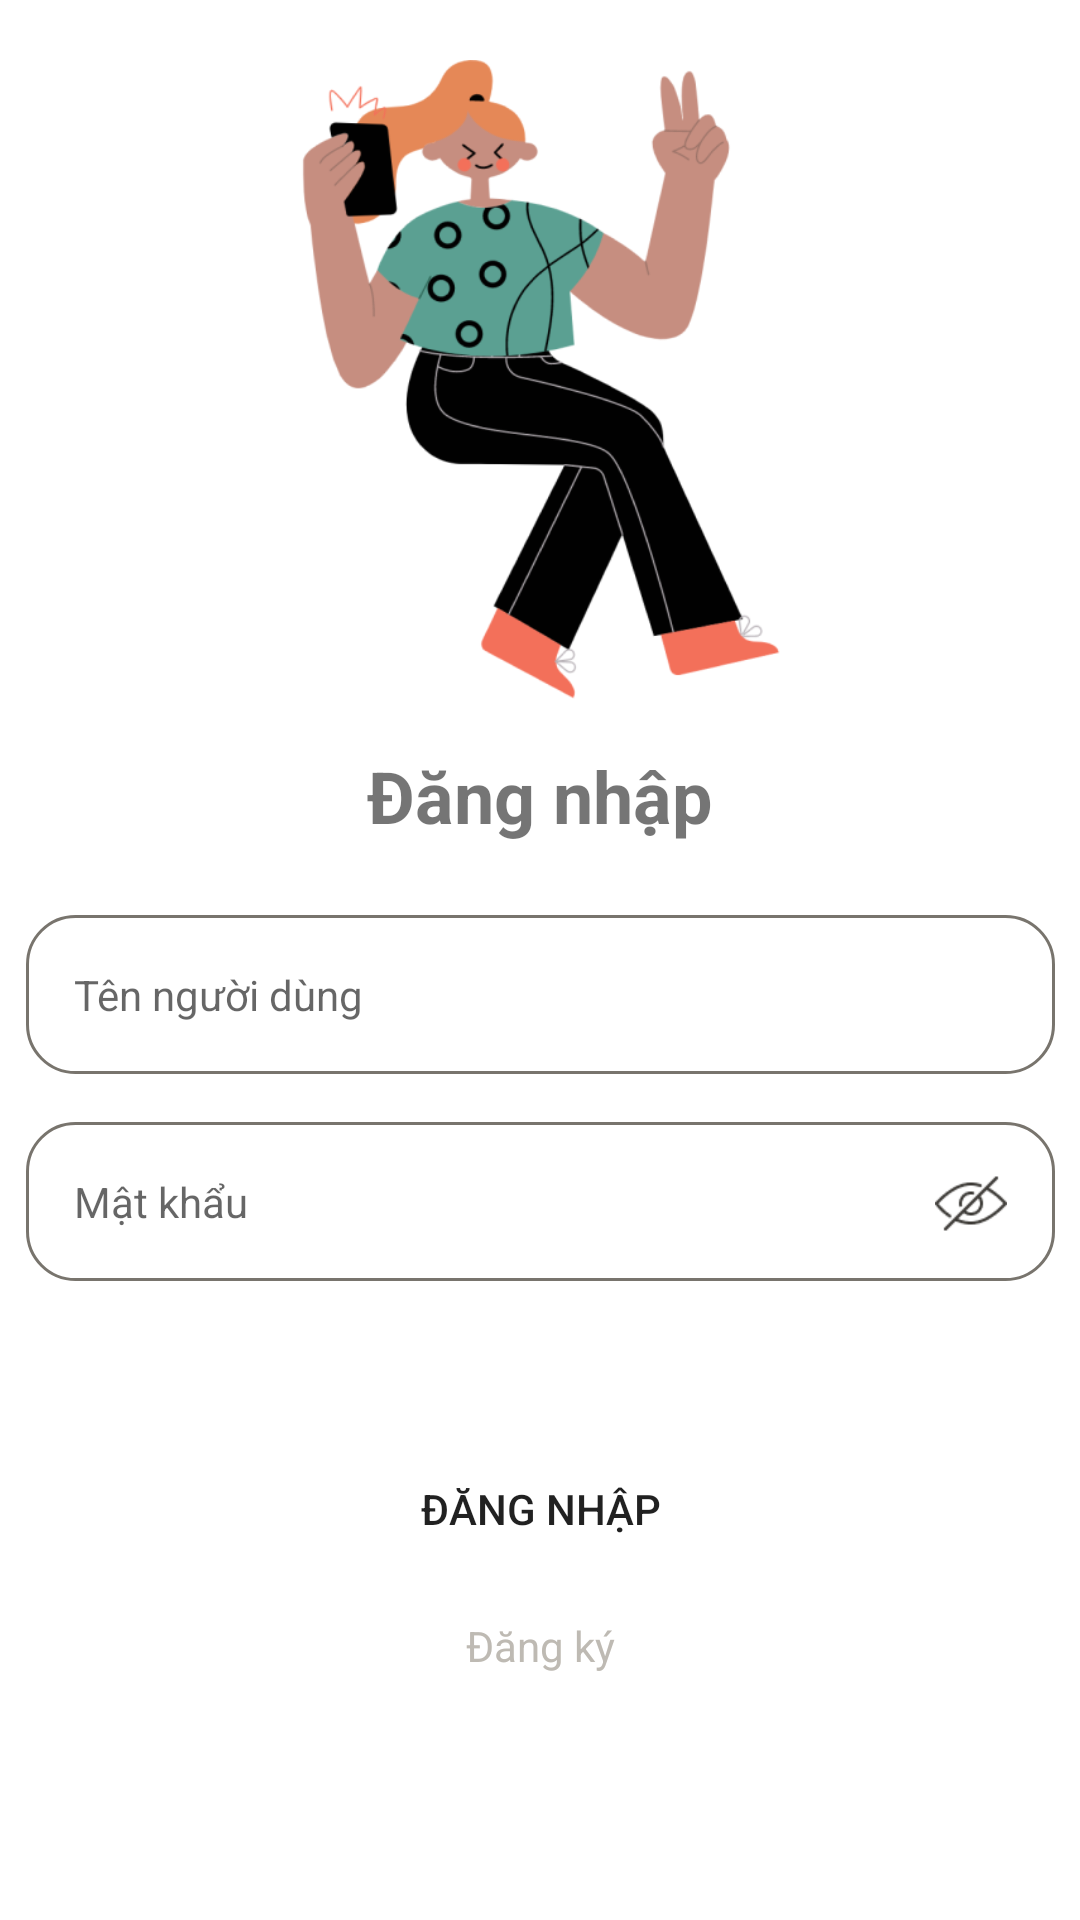

Where icons sit on this 1080px x 1920px app screen, as (x1, y1, x2, y2):
hiden password: (935, 1176, 1007, 1231)
